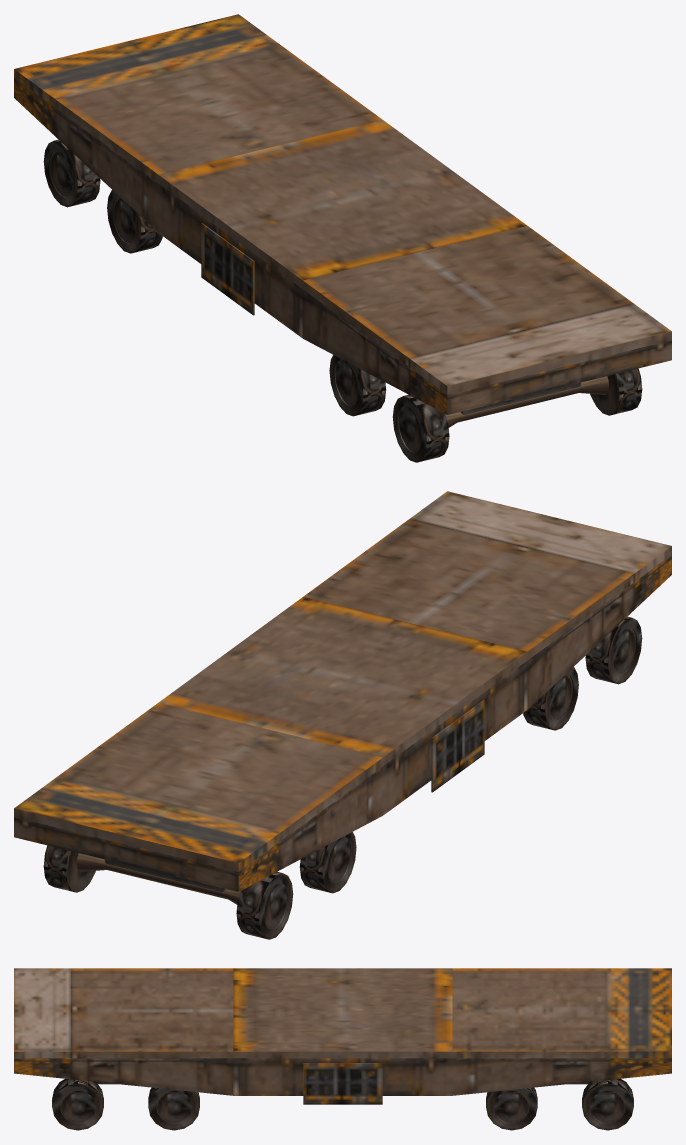
File: train_car_01.dae
The picture shows the model from 3 angles, top to bottom: view 1: azimuth 30°, elevation 25°; view 2: azimuth 150°, elevation 25°; view 3: azimuth 270°, elevation 25°; orthographic projection. The views are drawn at different scales.
Visible parts, largest first — view 1: train_car_01; view 2: train_car_01; view 3: train_car_01.
Part boxes in pixels (left/top/right/bottom): train_car_01: left=14, top=14, right=671, bottom=462; train_car_01: left=14, top=491, right=671, bottom=939; train_car_01: left=14, top=968, right=671, bottom=1130.
Size of the model in its own units: 8.7 by 28.22 by 3.81.
